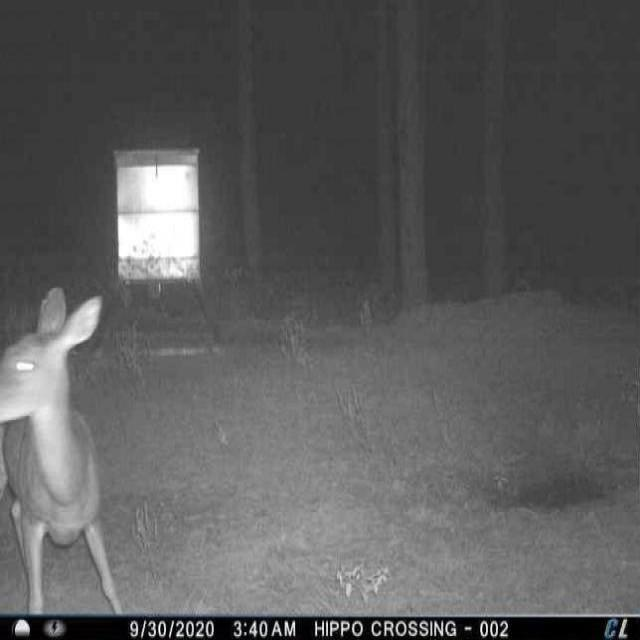deer: (0, 278, 127, 614)
